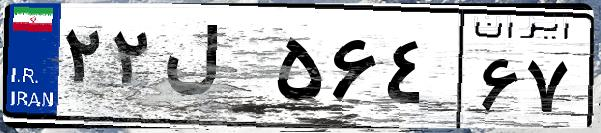2: (57, 26, 110, 100), (110, 28, 158, 98)
4: (385, 28, 445, 110)
5: (270, 28, 330, 110)
6: (330, 28, 385, 110), (475, 38, 525, 113)
7: (525, 38, 570, 115)
ل: (158, 20, 270, 120)
